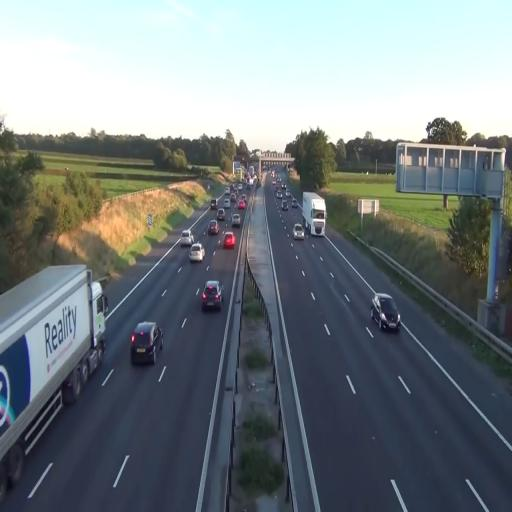vehicle: (0, 262, 106, 496), (129, 320, 162, 366), (372, 292, 400, 332), (302, 193, 326, 236), (201, 279, 222, 312), (219, 229, 236, 251), (190, 242, 204, 262), (292, 221, 306, 239), (208, 220, 219, 237)
